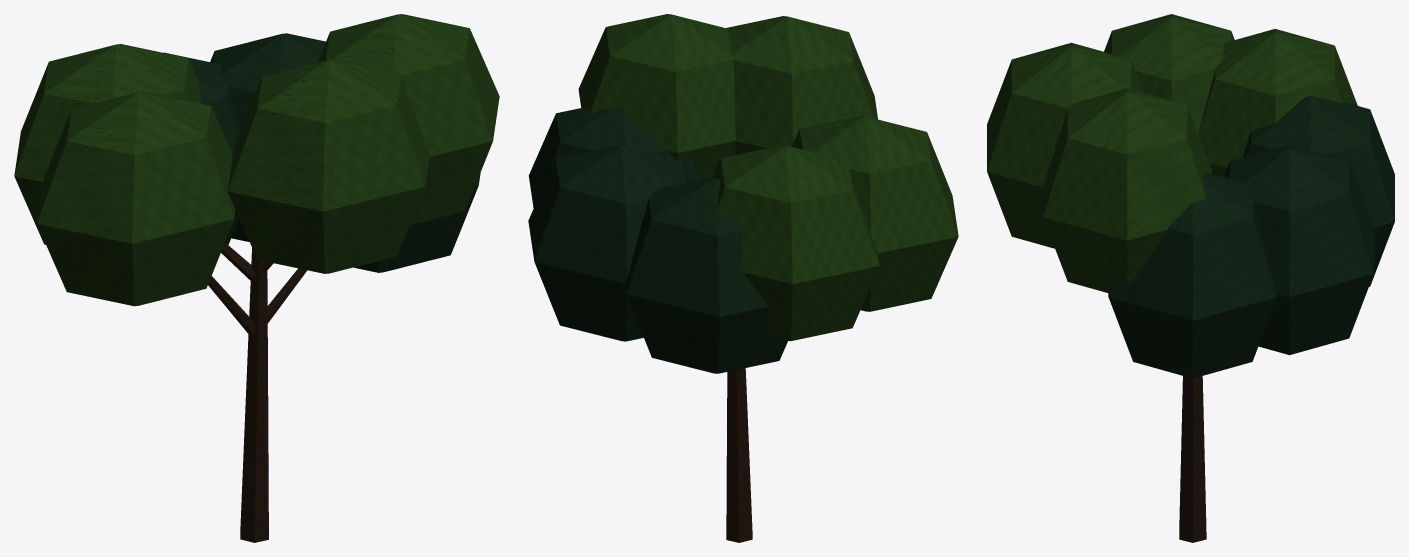
The model's file is PROP-3405314E8565_lod2.glb.
3 views of the same model, side by side, from view 1: azimuth 30°, elevation 25°; view 2: azimuth 150°, elevation 25°; view 3: azimuth 270°, elevation 25° (orthographic). The views are drawn at different scales.
Parts seen in each view (by area): view 1: leaf_crown.007, leaf_crown.006, trunk.015, branch.003; view 2: leaf_crown.007, leaf_crown.006, trunk.015; view 3: leaf_crown.007, leaf_crown.006, trunk.015.
Part boxes in pixels (bbox=[...]): leaf_crown.007: bbox=[14, 14, 499, 306]; leaf_crown.006: bbox=[163, 33, 480, 272]; trunk.015: bbox=[240, 248, 268, 542]; branch.003: bbox=[208, 210, 306, 334]; leaf_crown.007: bbox=[578, 14, 958, 341]; leaf_crown.006: bbox=[528, 107, 787, 373]; trunk.015: bbox=[726, 368, 752, 542]; leaf_crown.007: bbox=[987, 14, 1357, 292]; leaf_crown.006: bbox=[1108, 96, 1394, 378]; trunk.015: bbox=[1179, 376, 1206, 542].
Bounding box in the file's own units: 7.68 × 8.31 × 6.21.
3 materials, 3 textured.
